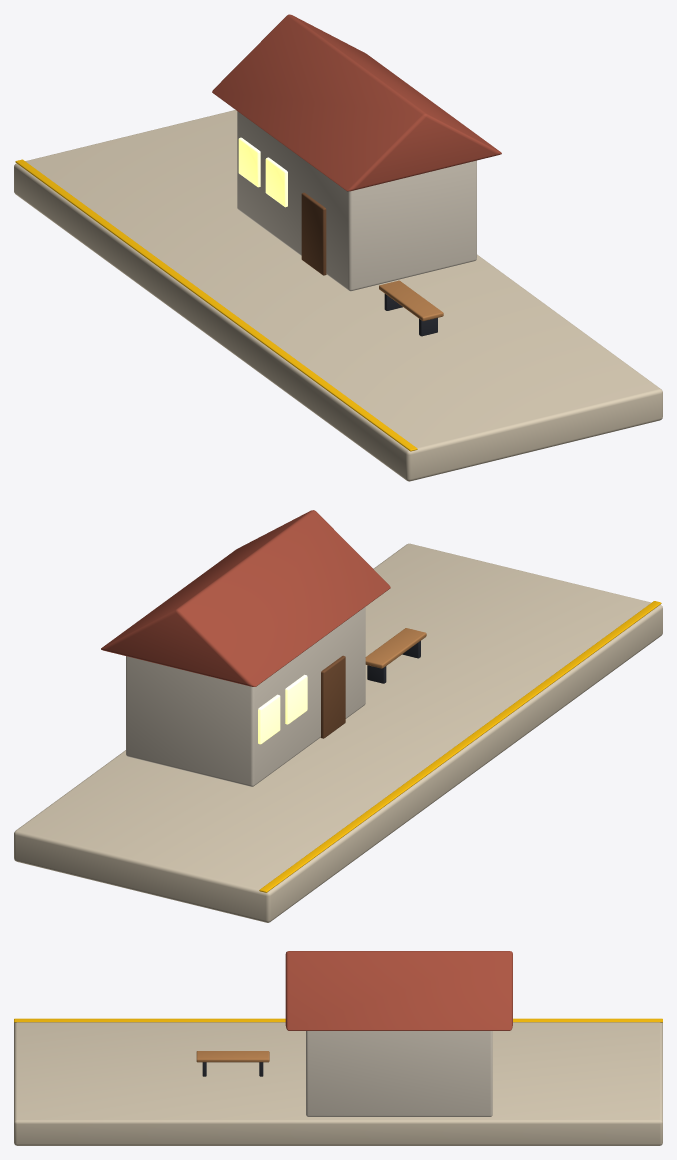
Rendered from estacao.glb.
3 views of the same model, one above another, from view 1: azimuth 30°, elevation 25°; view 2: azimuth 150°, elevation 25°; view 3: azimuth 270°, elevation 25° (orthographic). The views are drawn at different scales.
Parts seen in each view (by area): view 1: Cube, prism, Cube.002, Cube.001, Cube.003, Cube.004, estacao_janela, estacao_janela.001; view 2: Cube, prism, Cube.002, Cube.001, Cube.003, Cube.004, estacao_janela, estacao_janela.001; view 3: Cube, prism, Cube.002, Cube.001, Cube.004.
Part boxes in pixels (x1,y1,x2,y2): Cube: (14,110,662,481); prism: (212,14,501,191); Cube.002: (237,111,476,291); Cube.001: (15,159,417,451); Cube.003: (301,192,326,275); Cube.004: (379,280,443,321); estacao_janela: (265,157,287,207); estacao_janela.001: (238,137,260,187); Cube: (14,543,662,922); prism: (101,510,390,686); Cube.002: (126,607,365,786); Cube.001: (259,601,661,892); Cube.003: (320,655,345,738); Cube.004: (365,628,426,668); estacao_janela: (285,674,307,724); estacao_janela.001: (258,694,280,744); Cube: (14,1022,662,1145); prism: (285,951,512,1030); Cube.002: (306,1031,492,1116); Cube.001: (14,1018,662,1022); Cube.004: (196,1051,269,1062).
Bounding box in the file's own units: 6.11 × 4.52 × 16.
